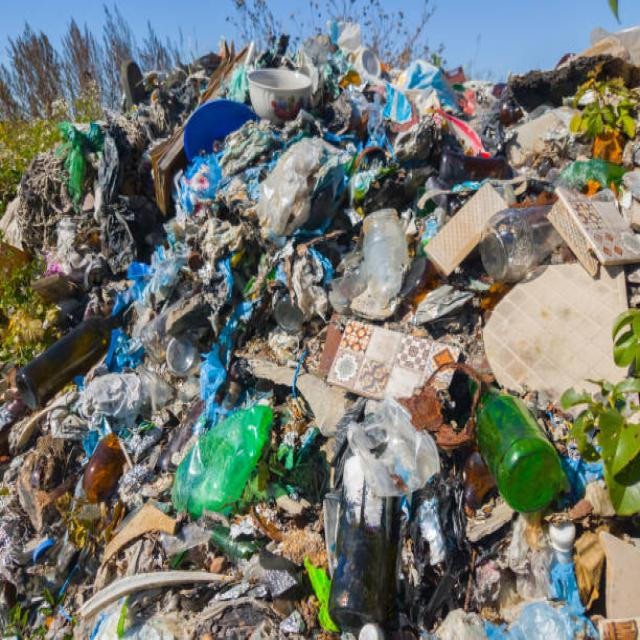glass: (173, 421, 303, 529), (19, 301, 125, 430), (470, 377, 560, 499), (482, 204, 555, 292), (370, 200, 418, 296), (142, 307, 195, 378)
plastic: (222, 142, 336, 276)
